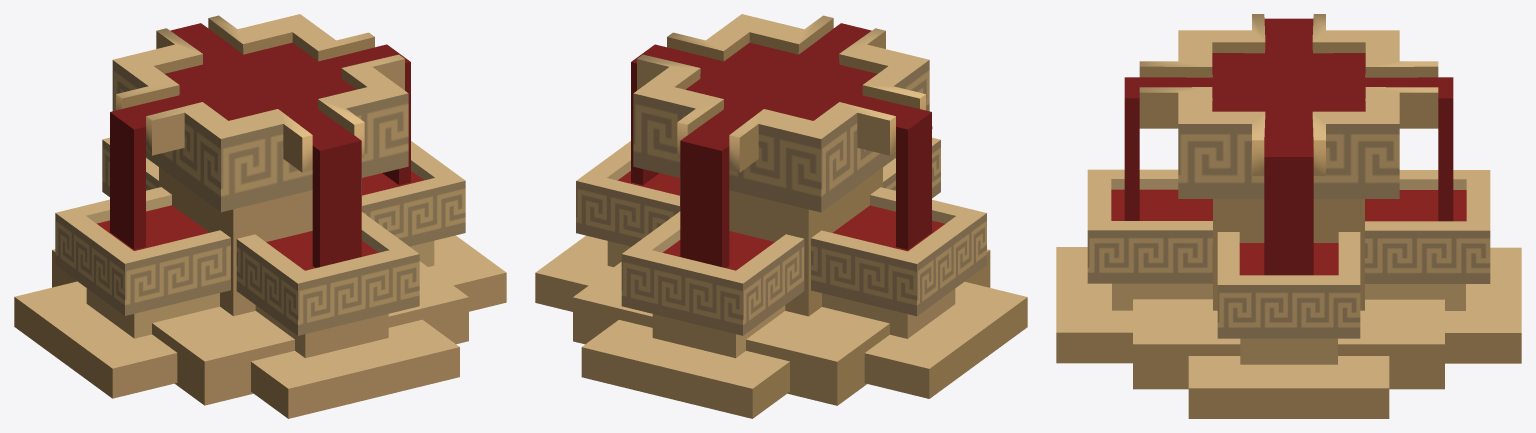
File: ST_Prop_Alter_03.fbx
3 views of the same model, side by side, from view 1: azimuth 30°, elevation 25°; view 2: azimuth 150°, elevation 25°; view 3: azimuth 270°, elevation 25° (orthographic). The views are drawn at different scales.
Visible parts, largest first — view 1: ST_Prop_Alter_03; view 2: ST_Prop_Alter_03; view 3: ST_Prop_Alter_03.
Part boxes in pixels (x1=…): ST_Prop_Alter_03: x1=14, y1=14, x2=506, y2=418; ST_Prop_Alter_03: x1=535, y1=14, x2=1027, y2=418; ST_Prop_Alter_03: x1=1056, y1=14, x2=1521, y2=418.
Bounding box in the file's own units: 3.65 × 2.14 × 3.65.
